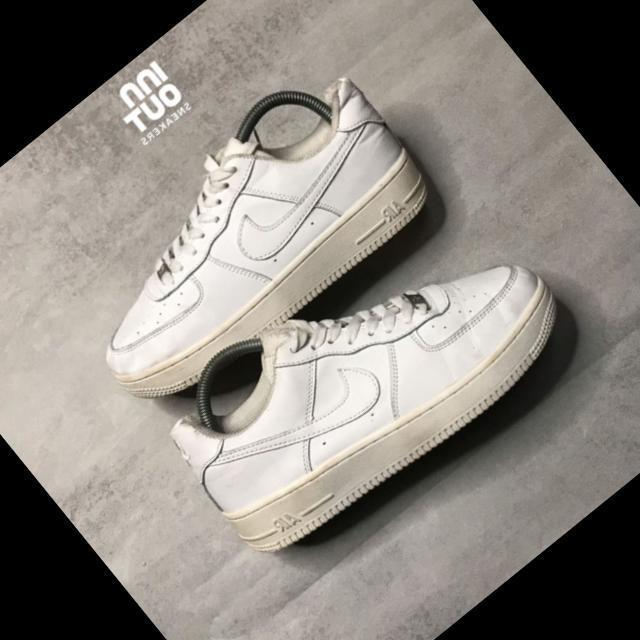nike fake air force: (137, 174, 584, 590), (36, 42, 452, 431)
